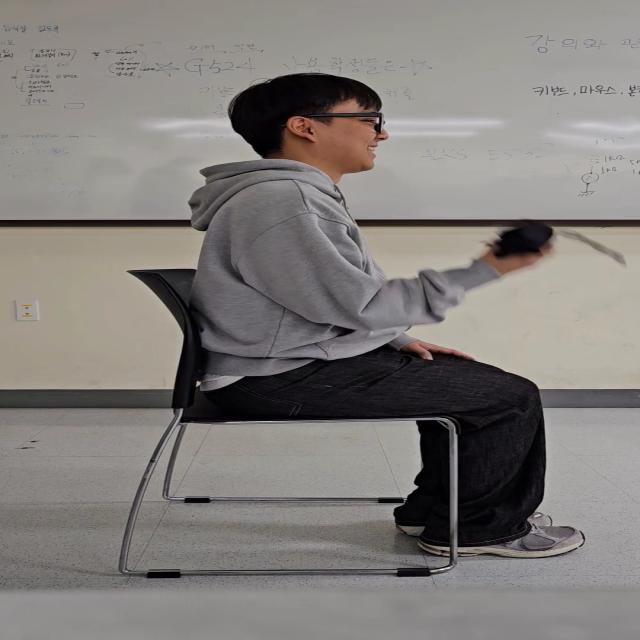curl: (237, 180, 544, 336)
